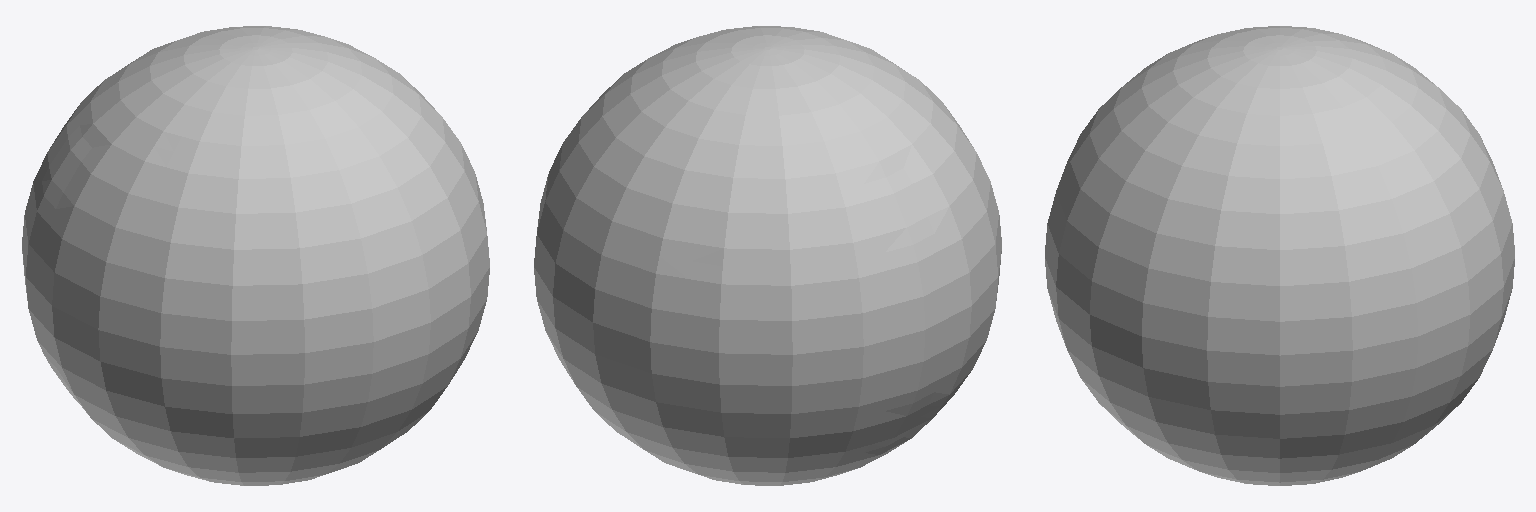
Rendered from Earth Day.obj.
3 views of the same model, side by side, from view 1: azimuth 30°, elevation 25°; view 2: azimuth 150°, elevation 25°; view 3: azimuth 270°, elevation 25° (orthographic).
Parts seen in each view (by area): view 1: Earth_Day; view 2: Earth_Day; view 3: Earth_Day.
Part boxes in pixels (left/top/right/bottom): Earth_Day: left=22, top=26, right=489, bottom=485; Earth_Day: left=534, top=26, right=1001, bottom=485; Earth_Day: left=1045, top=26, right=1514, bottom=485.
Bounding box in the file's own units: 25.06 × 24.39 × 25.06.